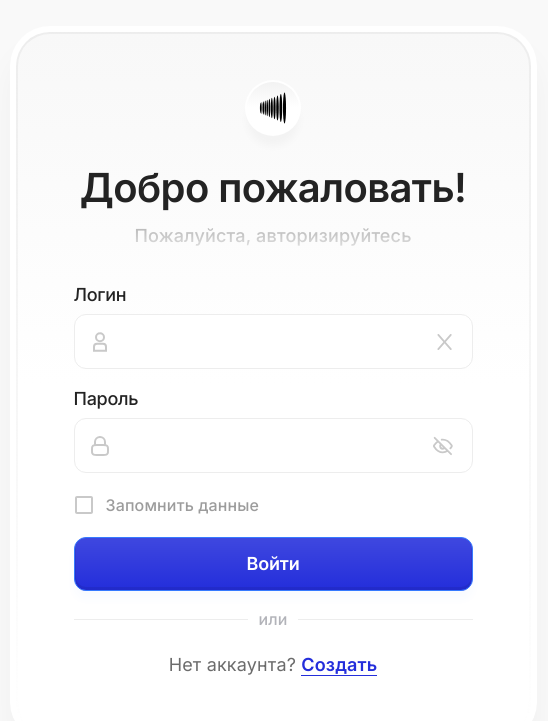
Test: LoginPage › shows validation errors when submitting empty form
Click the button "Войти" at (273, 564), box [74,537,472,591]
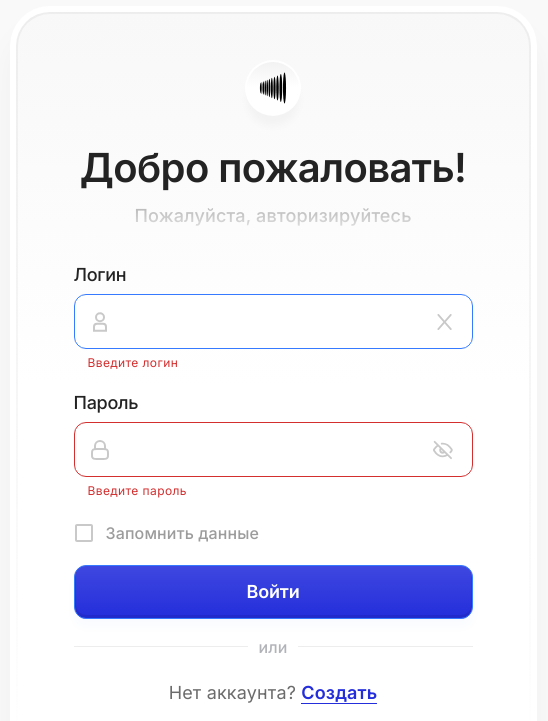
Expected: the text "Введите логин" is shown, [88,355,178,370]
Expected: the text "Введите пароль" is shown, [88,483,187,498]
